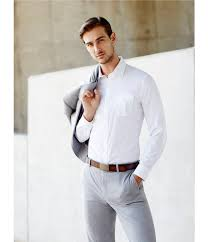F_belt: (79, 153, 149, 178)
F_shirt: (85, 56, 176, 181)
